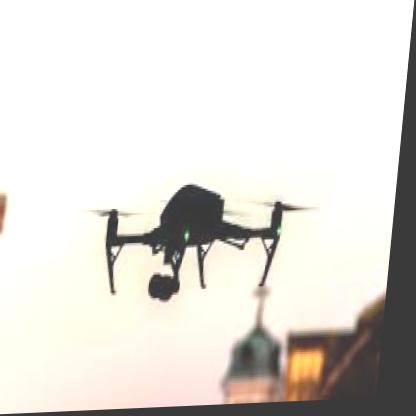UAS: (74, 181, 327, 308)
